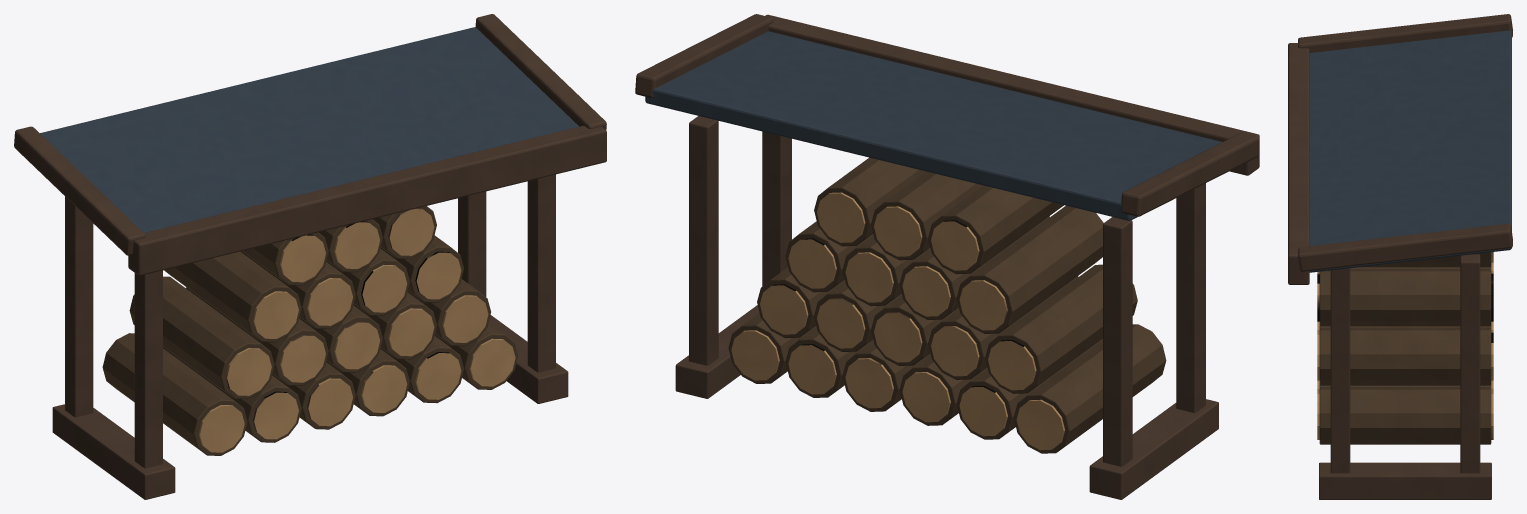
File: Firewood_Rack.fbx
3 views of the same model, side by side, from view 1: azimuth 30°, elevation 25°; view 2: azimuth 150°, elevation 25°; view 3: azimuth 270°, elevation 25° (orthographic). The views are drawn at different scales.
Parts seen in each view (by area): view 1: Firewood_Rack.001; view 2: Firewood_Rack.001; view 3: Firewood_Rack.001.
Part boxes in pixels (left/top/right/bottom): Firewood_Rack.001: left=14, top=14, right=606, bottom=499; Firewood_Rack.001: left=635, top=14, right=1259, bottom=499; Firewood_Rack.001: left=1288, top=14, right=1512, bottom=499.
Size of the model in its own units: 3.1 by 1.87 by 1.35.
